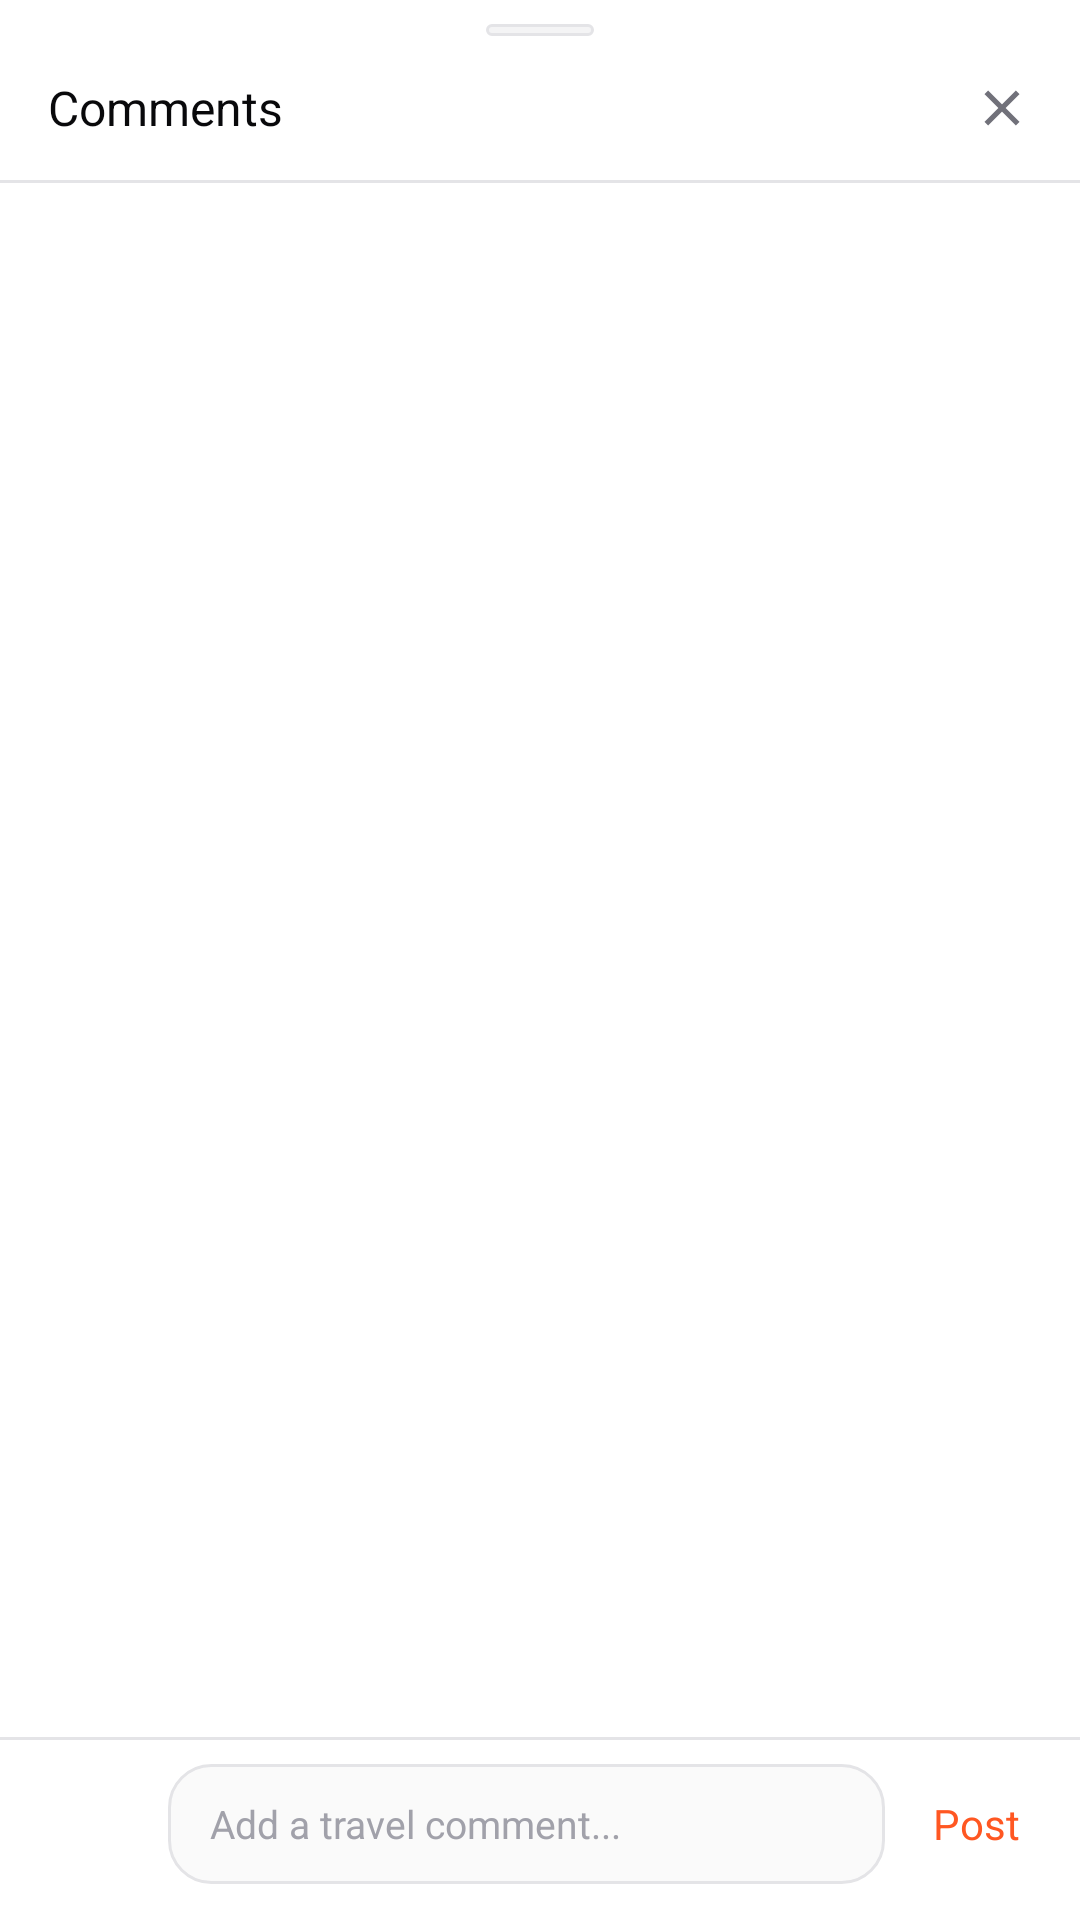

Icons on this 1080x1920 Android screen, each with the point to tap as (x,y):
Close: (1002,108)
